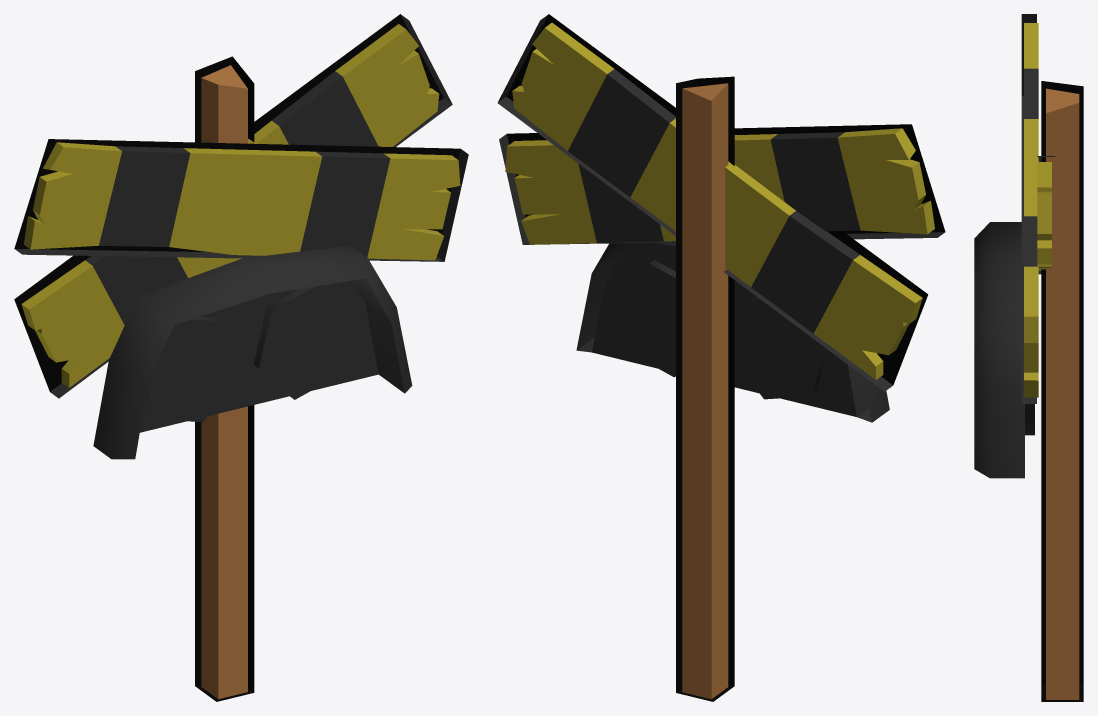
The model's file is TrafficLight 1.fbx.
3 views of the same model, side by side, from view 1: azimuth 30°, elevation 25°; view 2: azimuth 150°, elevation 25°; view 3: azimuth 270°, elevation 25° (orthographic). The views are drawn at different scales.
Visible parts, largest first — view 1: LightTraffic, OutLine.001; view 2: LightTraffic, OutLine.001; view 3: LightTraffic, OutLine.001.
Part boxes in pixels (<box>): LightTraffic: <box>21,24,460,699</box>; OutLine.001: <box>14,14,468,701</box>; LightTraffic: <box>505,22,934,699</box>; OutLine.001: <box>497,14,945,701</box>; LightTraffic: <box>974,23,1079,699</box>; OutLine.001: <box>1021,14,1083,701</box>.
Size of the model in its own units: 76.24 by 16.65 by 104.
